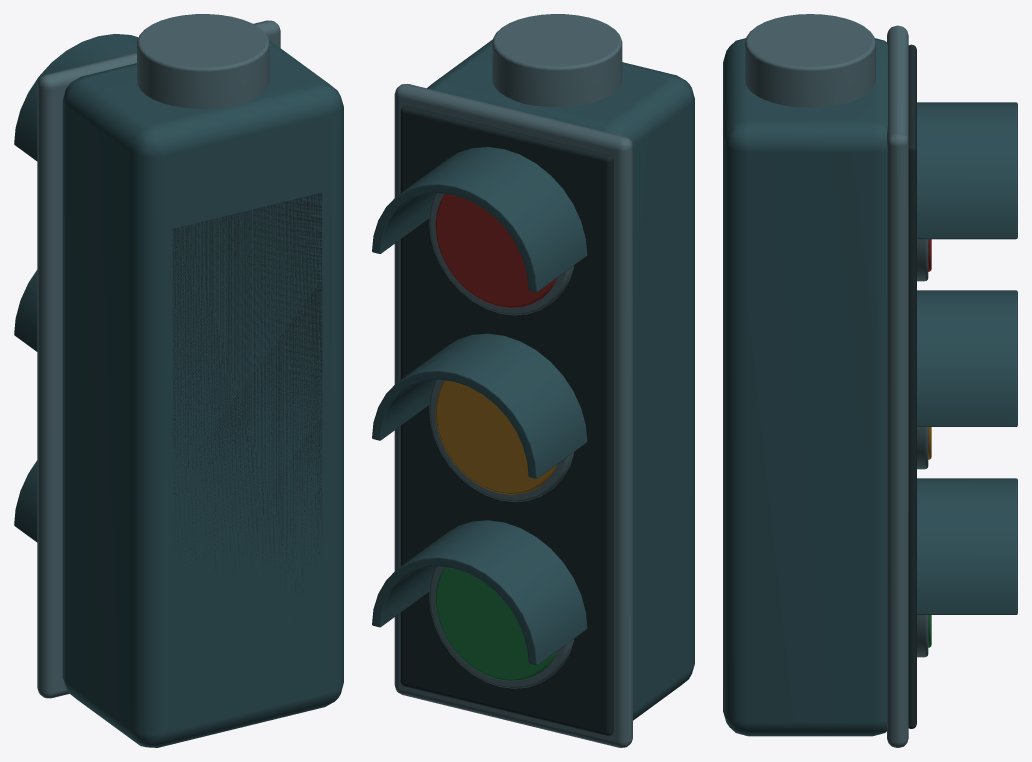
File: city_traffic_fixtures_02.glb
3 views of the same model, side by side, from view 1: azimuth 30°, elevation 25°; view 2: azimuth 150°, elevation 25°; view 3: azimuth 270°, elevation 25° (orthographic). The views are drawn at different scales.
Parts seen in each view (by area): view 1: CityTrafficFixtures02_Mesh; view 2: CityTrafficFixtures02_Mesh; view 3: CityTrafficFixtures02_Mesh.
Part boxes in pixels (x1,y1,x2,y2): CityTrafficFixtures02_Mesh: (14,14,343,747); CityTrafficFixtures02_Mesh: (372,14,694,747); CityTrafficFixtures02_Mesh: (723,14,1017,747).
Bounding box in the file's own units: 0.5 × 1.32 × 0.54.
